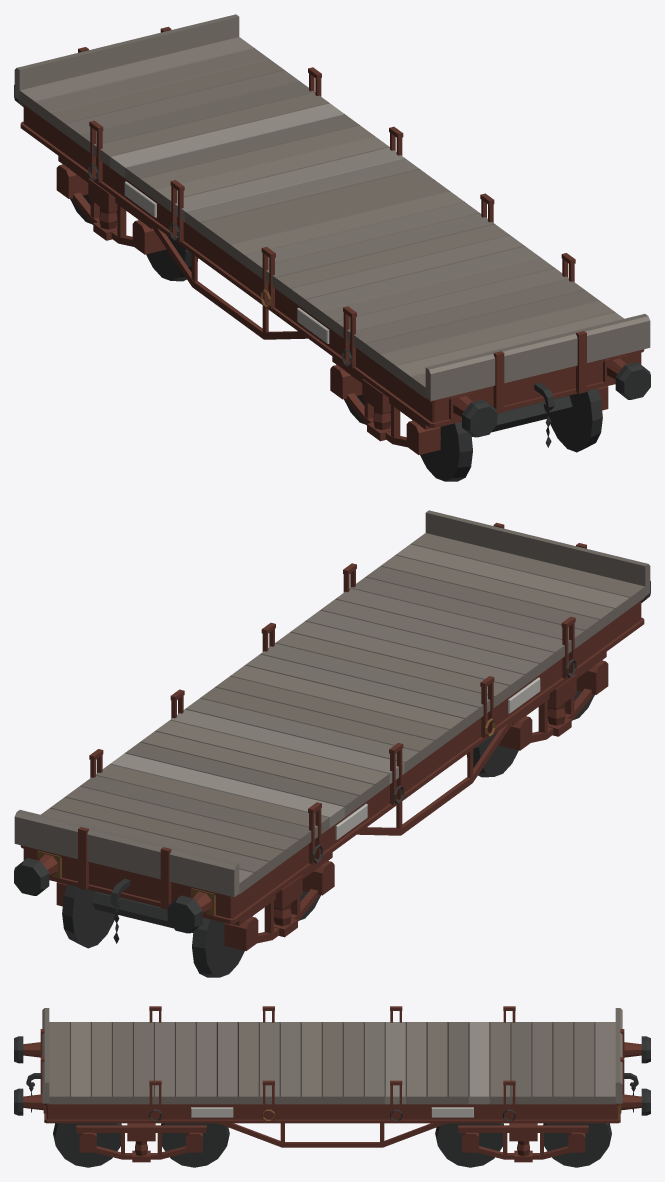
The model's file is flatbed-wagon-53187a.glb.
3 views of the same model, one above another, from view 1: azimuth 30°, elevation 25°; view 2: azimuth 150°, elevation 25°; view 3: azimuth 270°, elevation 25° (orthographic). The views are drawn at different scales.
Parts seen in each view (by area): view 1: body, wheel-f1-set, bogie-f-frame, bogie-r-frame, wheel-r1-set; view 2: body, wheel-r2-set, bogie-r-frame, bogie-f-frame, wheel-f2-set; view 3: body, bogie-f-frame, bogie-r-frame, wheel-f1-set, wheel-r2-set, wheel-f2-set, wheel-r1-set.
Part boxes in pixels (x1,y1,x2,y2): body: (14,14,650,447); wheel-f1-set: (412,388,602,481); bogie-f-frame: (330,356,608,454); bogie-r-frame: (56,156,166,254); wheel-r1-set: (138,220,198,281); body: (14,510,650,943); wheel-r2-set: (62,884,252,977); bogie-r-frame: (56,852,334,950); bogie-f-frame: (498,652,608,750); wheel-f2-set: (466,716,526,777); body: (14,1006,650,1147); bogie-f-frame: (76,1123,206,1162); bogie-r-frame: (458,1123,588,1162); wheel-f1-set: (53,1123,121,1167); wheel-r2-set: (543,1123,611,1167); wheel-f2-set: (161,1123,229,1167); wheel-r1-set: (435,1123,503,1167).
Bounding box in the file's own units: 2.58 × 1.58 × 9.
